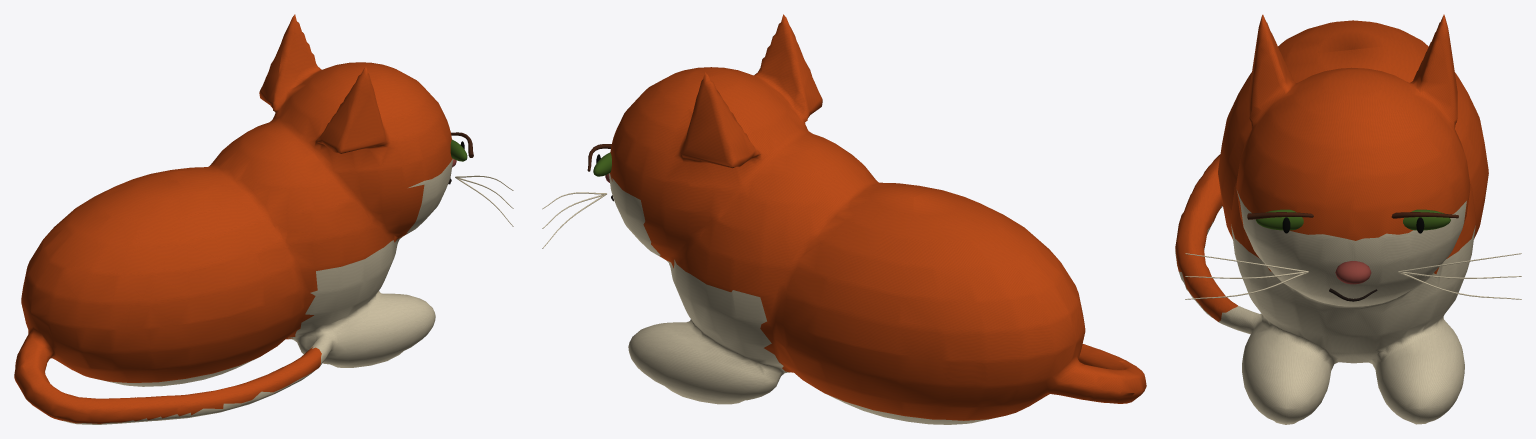
Rendered from lafitte.glb.
The picture shows the model from 3 angles, left to right: view 1: azimuth 30°, elevation 25°; view 2: azimuth 150°, elevation 25°; view 3: azimuth 270°, elevation 25°; orthographic projection. The views are drawn at different scales.
Parts seen in each view (by area): view 1: Lafitte_StaticFirstPass; view 2: Lafitte_StaticFirstPass; view 3: Lafitte_StaticFirstPass.
Boxes of the visible parts, x1,y1,x2,y2 form: Lafitte_StaticFirstPass: (14, 14, 513, 424); Lafitte_StaticFirstPass: (542, 14, 1146, 424); Lafitte_StaticFirstPass: (1175, 14, 1521, 424).
Bounding box in the file's own units: 0.3295 × 0.2085 × 0.17.
Materials: 7 (7 with a texture image).
